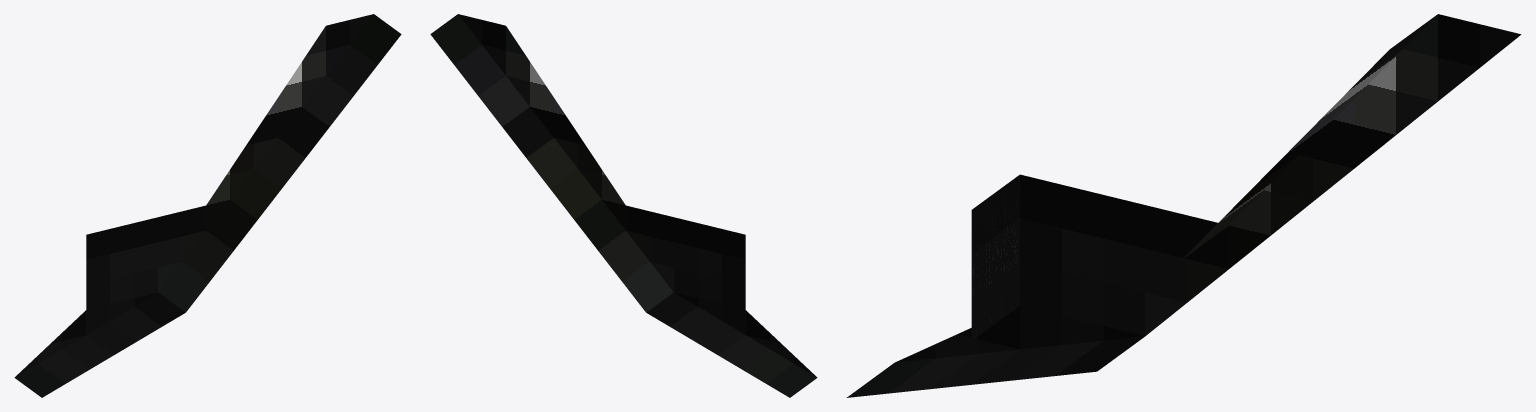
Rendered from npcs_03.glb.
The picture shows the model from 3 angles, left to right: view 1: azimuth 30°, elevation 25°; view 2: azimuth 150°, elevation 25°; view 3: azimuth 330°, elevation 25°; orthographic projection. The views are drawn at different scales.
Visible parts, largest first — view 1: world; view 2: world; view 3: world.
Part boxes in pixels (x1,y1,x2,y2): world: [14, 14, 401, 397]; world: [430, 14, 817, 397]; world: [847, 14, 1521, 397].
Size of the model in its own units: 0.15 by 0.11 by 0.02.
1 material, 1 textured.
